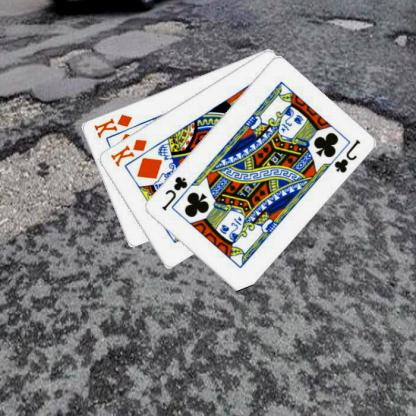JC: (160, 174, 191, 212), (333, 136, 363, 174)
KD: (109, 136, 150, 168), (93, 111, 135, 139)
